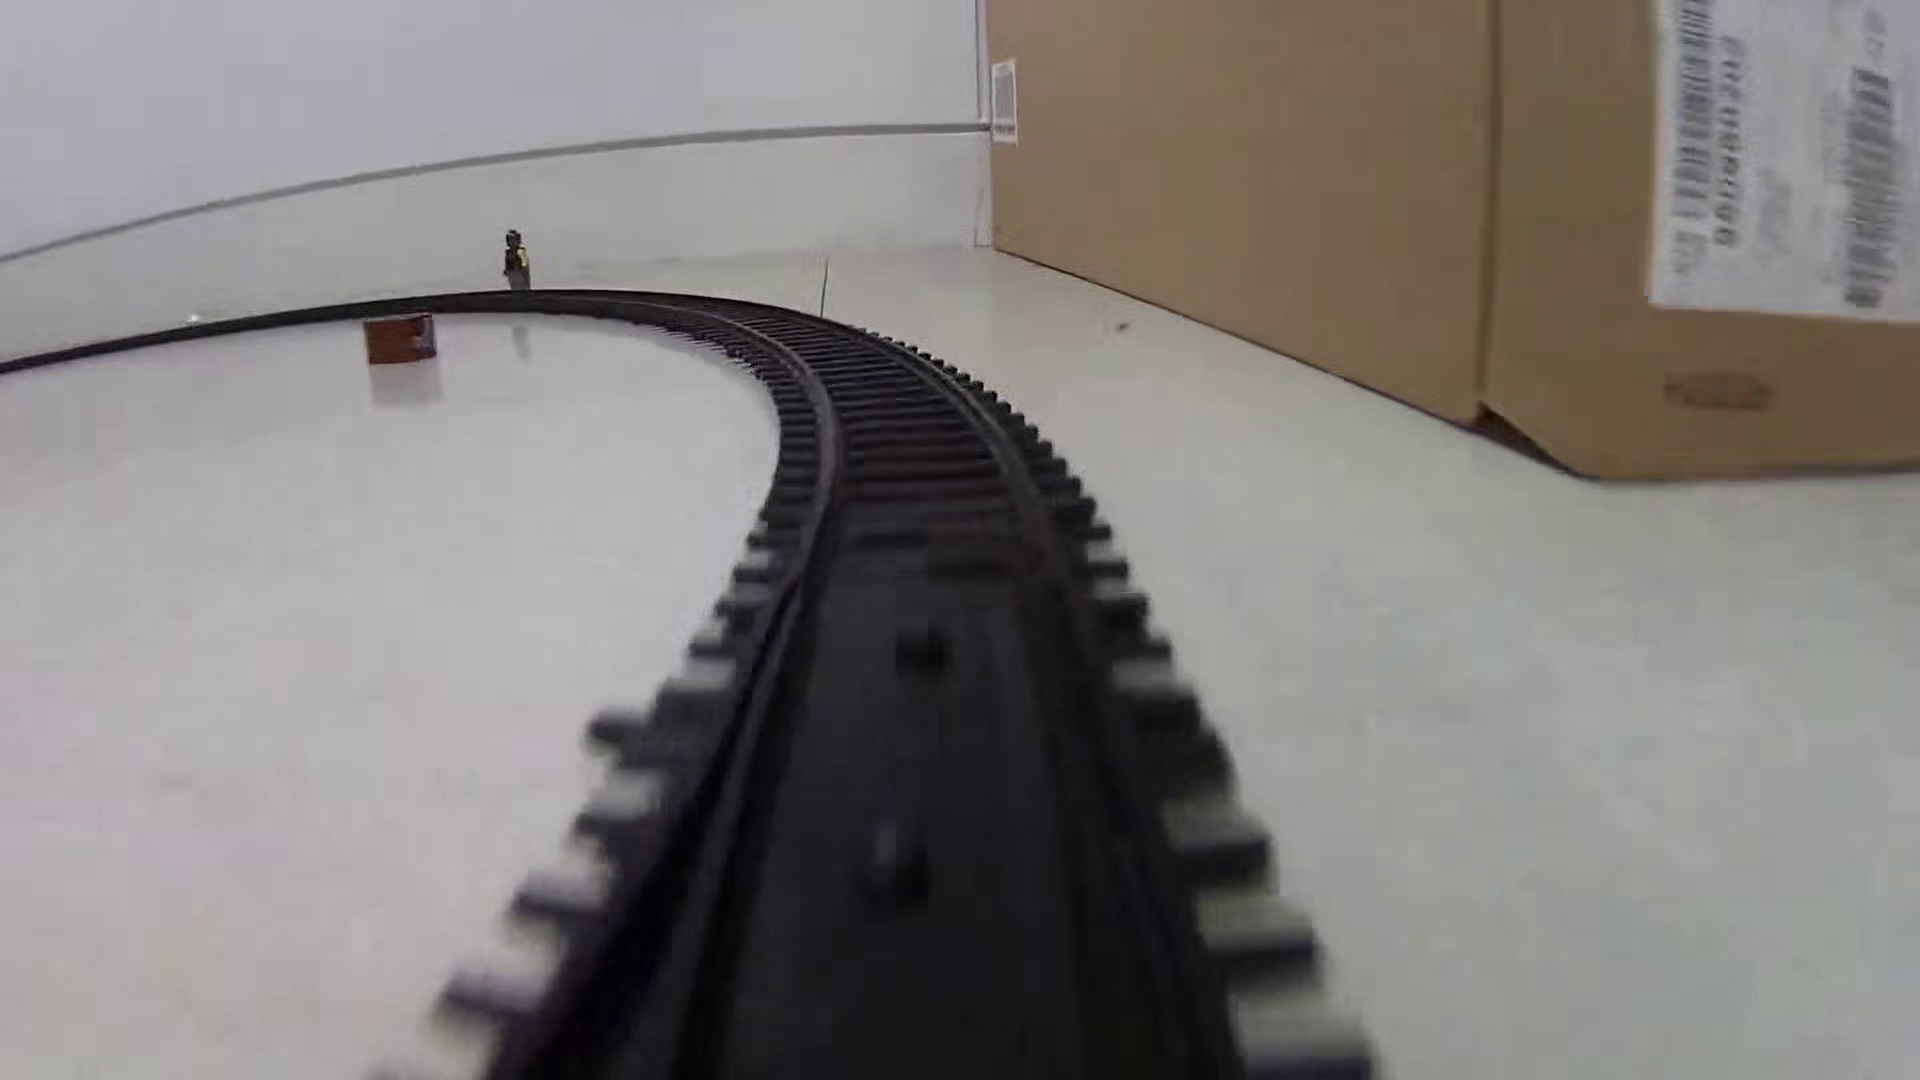box: (362, 310, 440, 370)
people: (499, 227, 534, 294)
